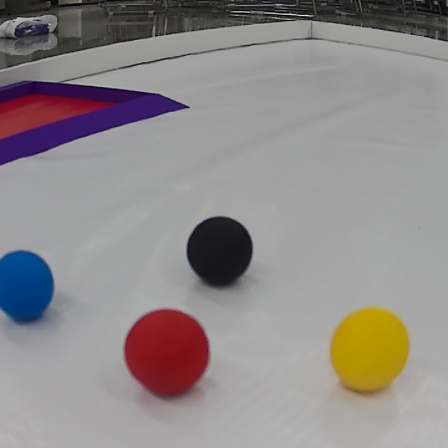black: (184, 213, 256, 290)
blue: (0, 247, 58, 322)
red: (120, 305, 209, 398)
red_aim: (3, 69, 205, 196)
yellow: (327, 306, 413, 393)
